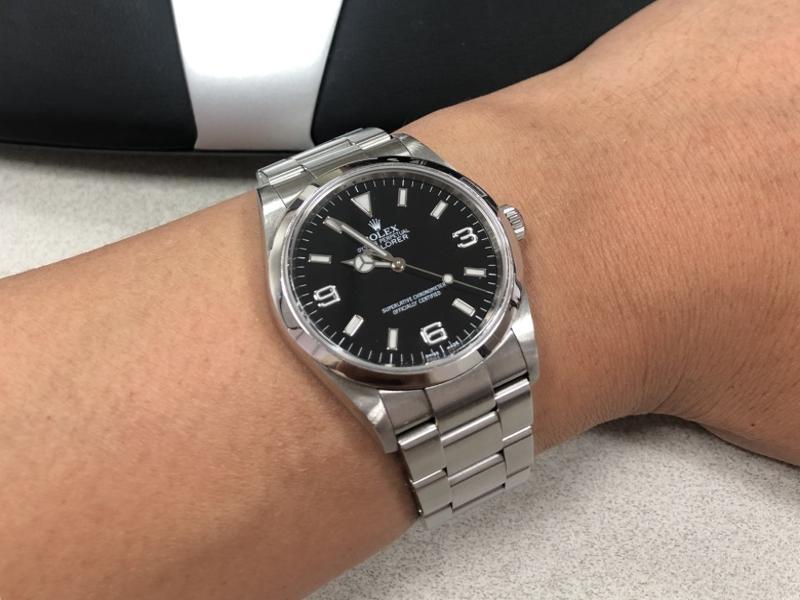watch: (250, 120, 543, 521)
